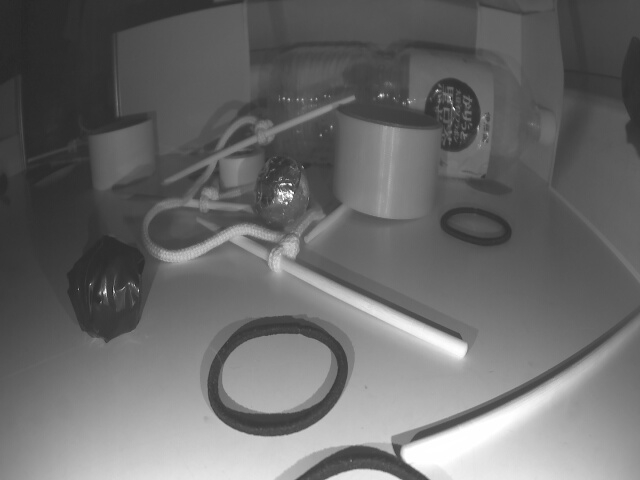Dead: (66, 236, 145, 339)
Live: (254, 154, 311, 223)
